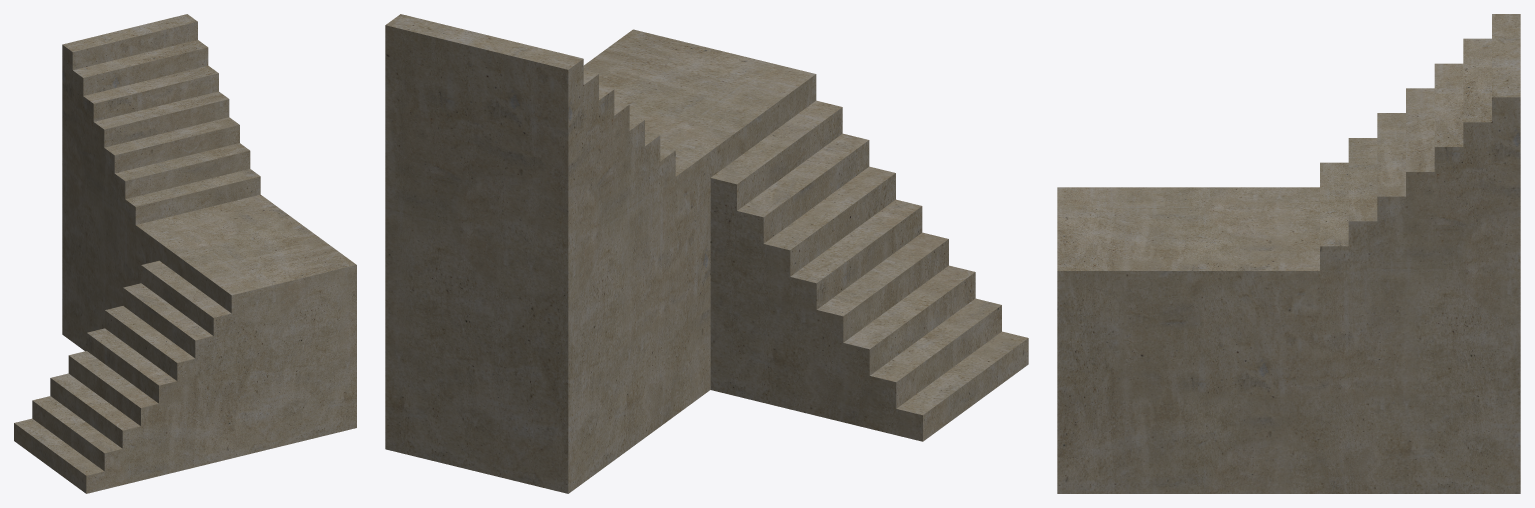
3 renders of one model, left to right at view 1: azimuth 30°, elevation 25°; view 2: azimuth 150°, elevation 25°; view 3: azimuth 270°, elevation 25°, orthographic. The views are drawn at different scales.
Parts seen in each view (by area): view 1: Mesh1_Concrete012_0; view 2: Mesh1_Concrete012_0; view 3: Mesh1_Concrete012_0.
Boxes of the visible parts, x1,y1,x2,y2 form: Mesh1_Concrete012_0: (14,14,356,493); Mesh1_Concrete012_0: (385,14,1028,493); Mesh1_Concrete012_0: (1057,14,1520,493).
Size of the model in its own units: 121 by 124 by 131.
